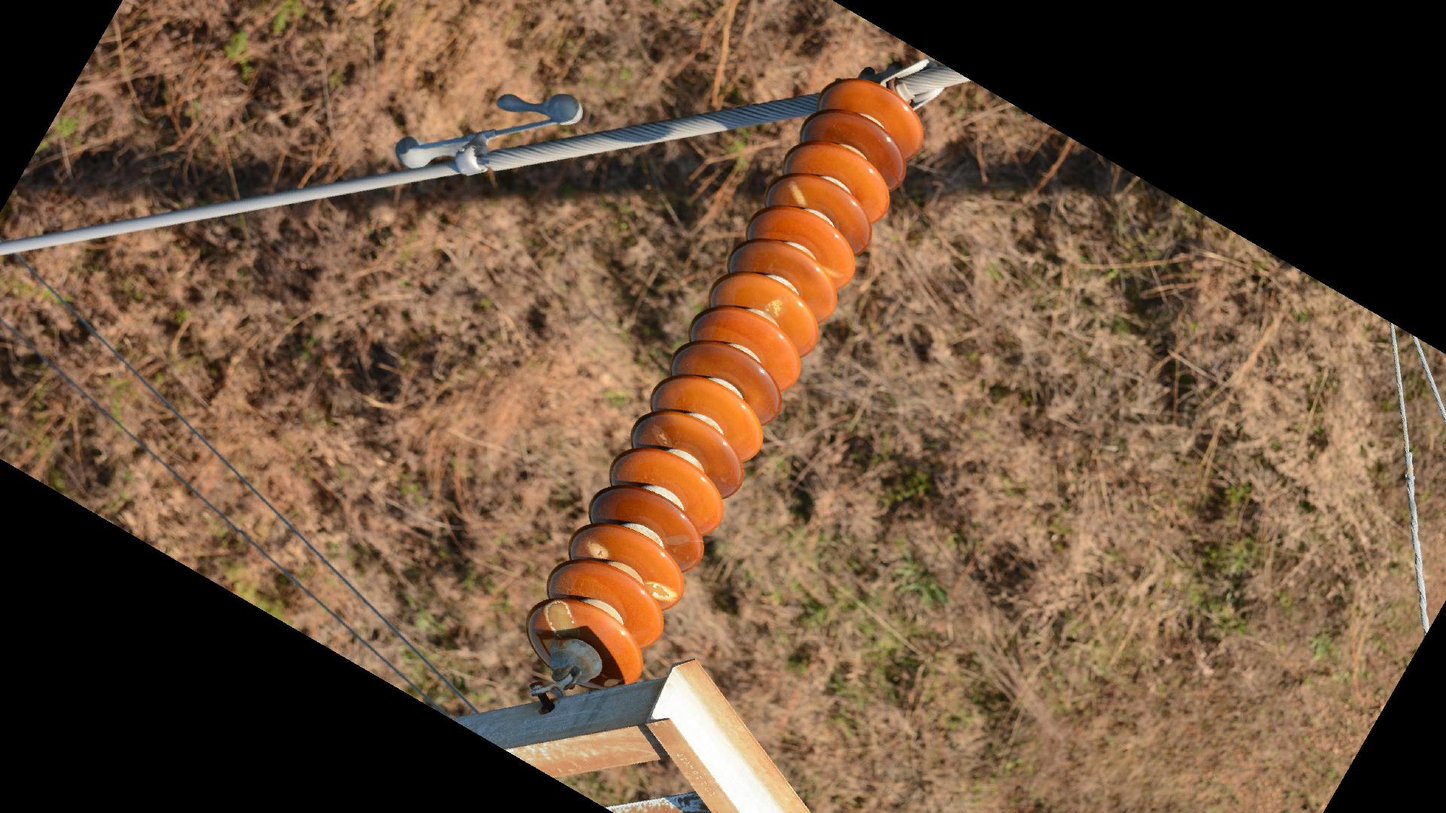insulator: (523, 72, 928, 699)
insulator_flashover: (543, 598, 581, 642), (581, 535, 613, 564), (641, 580, 679, 604), (786, 178, 811, 211), (761, 297, 786, 319)
